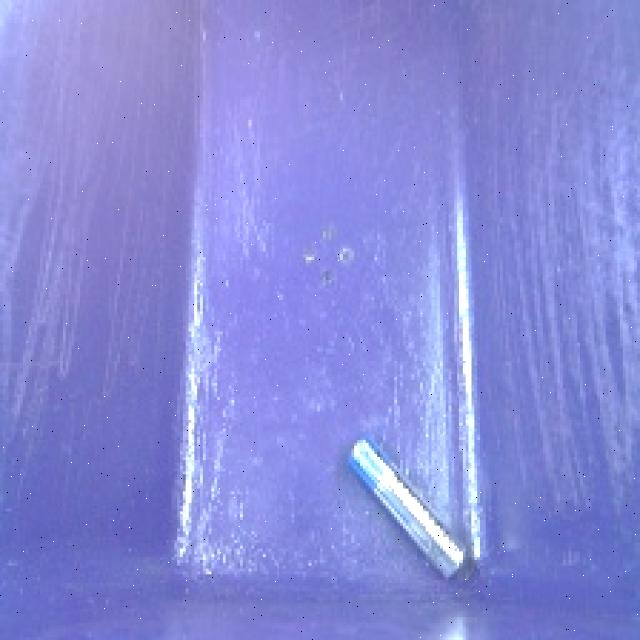battery: (336, 422, 490, 595)
